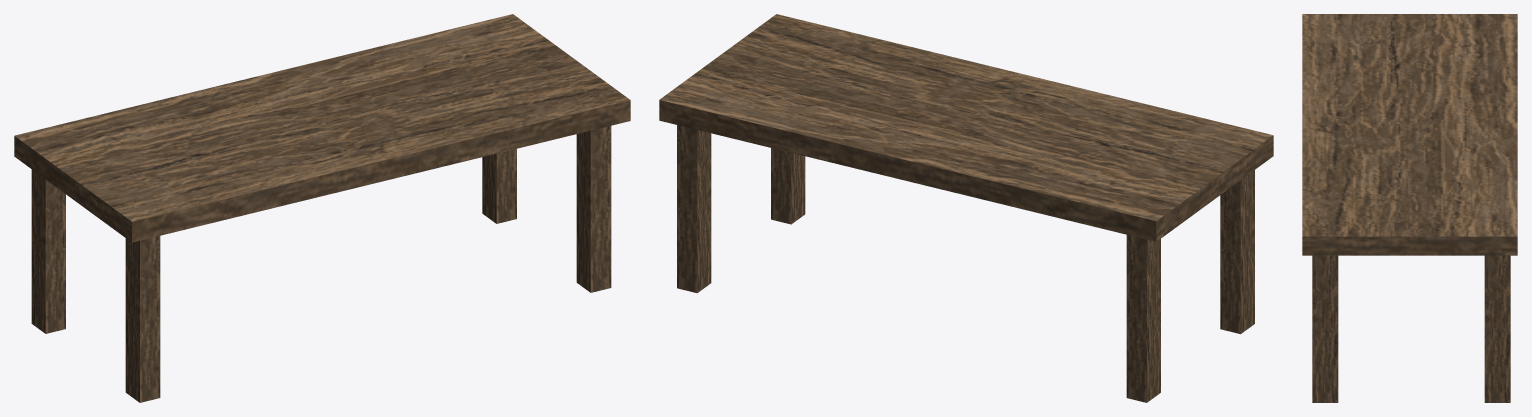
The model's file is SM_Table00.fbx.
3 renders of one model, left to right at view 1: azimuth 30°, elevation 25°; view 2: azimuth 150°, elevation 25°; view 3: azimuth 270°, elevation 25°, orthographic. The views are drawn at different scales.
Visible parts, largest first — view 1: SM_Table00; view 2: SM_Table00; view 3: SM_Table00.
Part boxes in pixels (box(x1,y1,x2,y2)): SM_Table00: box(14, 14, 630, 402); SM_Table00: box(659, 14, 1273, 402); SM_Table00: box(1302, 14, 1517, 402).
Size of the model in its own units: 294 by 106 by 120.
